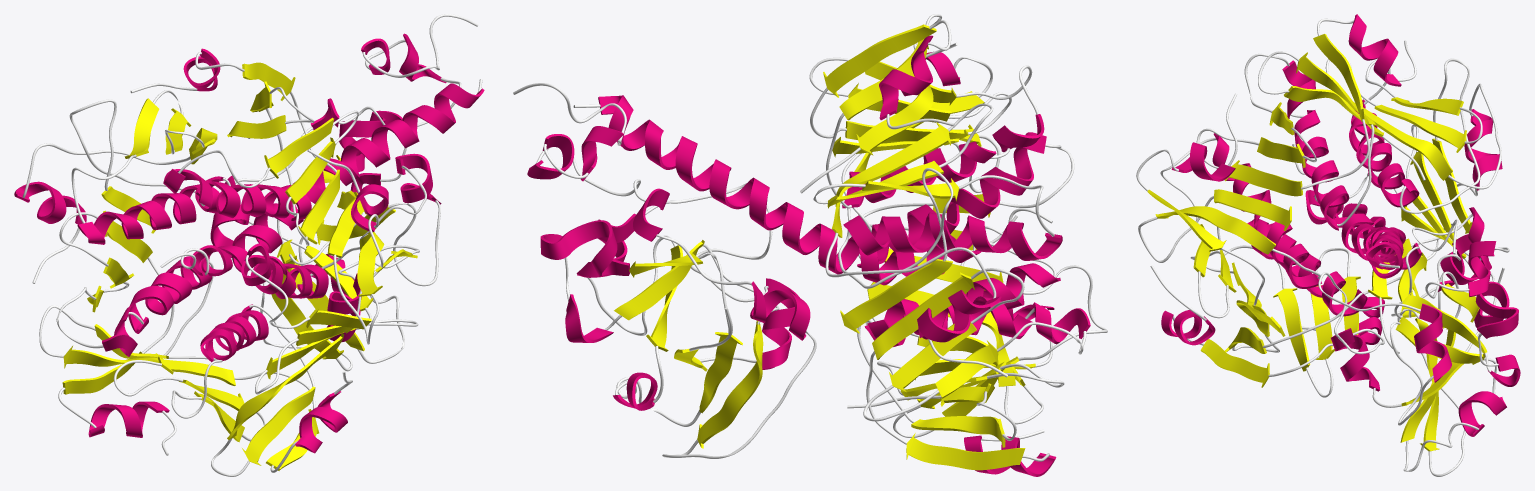
File: cholera toxin.fbx
3 views of the same model, side by side, from view 1: azimuth 30°, elevation 25°; view 2: azimuth 150°, elevation 25°; view 3: azimuth 270°, elevation 25° (orthographic). The views are drawn at different scales.
Parts seen in each view (by area): view 1: 1xtc_C_Helix1, 1xtc_E_Helix2, 1xtc_G_Helix2, 1xtc_F_Helix3, 1xtc_D_Helix3, 1xtc_H_Helix2, 1xtc_H_Strand2, 1xtc_D_Helix1, 1xtc_E_Helix1, 1xtc_H_Helix1, 1xtc_H_Strand1, 1xtc_F_Strand6 (+38 smaller); view 2: 1xtc_C_Helix1, 1xtc_E_Helix2, 1xtc_G_Helix2, 1xtc_A_Helix4, 1xtc_D_Strand1, 1xtc_D_Helix3, 1xtc_E_Strand1, 1xtc_F_Helix3, 1xtc_F_Strand3, 1xtc_E_Strand4, 1xtc_A_Strand3, 1xtc_D_Strand4 (+36 smaller); view 3: 1xtc_C_Helix1, 1xtc_E_Helix2, 1xtc_G_Helix2, 1xtc_F_Helix3, 1xtc_H_Helix2, 1xtc_A_Helix4, 1xtc_G_Strand2, 1xtc_F_Helix1, 1xtc_A_Helix2, 1xtc_A_Helix1, 1xtc_G_Strand3, 1xtc_E_Strand4 (+43 smaller).
Boxes of the visible parts, x1,y1,x2,y2 form: 1xtc_C_Helix1: [190, 83, 484, 276]; 1xtc_E_Helix2: [77, 176, 225, 244]; 1xtc_G_Helix2: [241, 243, 328, 298]; 1xtc_F_Helix3: [195, 180, 311, 220]; 1xtc_D_Helix3: [128, 256, 212, 333]; 1xtc_H_Helix2: [200, 304, 268, 361]; 1xtc_H_Strand2: [242, 386, 315, 465]; 1xtc_D_Helix1: [88, 401, 169, 437]; 1xtc_E_Helix1: [14, 181, 86, 224]; 1xtc_H_Helix1: [295, 391, 347, 453]; 1xtc_H_Strand1: [227, 333, 344, 439]; 1xtc_F_Strand6: [264, 117, 333, 178]; 1xtc_C_Helix1: [598, 95, 981, 285]; 1xtc_E_Helix2: [843, 212, 1062, 260]; 1xtc_G_Helix2: [857, 132, 1046, 267]; 1xtc_A_Helix4: [540, 220, 629, 276]; 1xtc_D_Strand1: [906, 433, 1025, 470]; 1xtc_D_Helix3: [867, 296, 1032, 338]; 1xtc_E_Strand1: [840, 259, 952, 333]; 1xtc_F_Helix3: [842, 141, 996, 208]; 1xtc_F_Strand3: [823, 24, 936, 97]; 1xtc_E_Strand4: [832, 122, 950, 237]; 1xtc_A_Strand3: [697, 320, 763, 448]; 1xtc_D_Strand4: [872, 272, 974, 359]; 1xtc_C_Helix1: [1313, 193, 1403, 278]; 1xtc_E_Helix2: [1349, 99, 1419, 207]; 1xtc_G_Helix2: [1212, 133, 1321, 288]; 1xtc_F_Helix3: [1294, 110, 1349, 230]; 1xtc_H_Helix2: [1247, 219, 1367, 316]; 1xtc_A_Helix4: [1474, 281, 1518, 338]; 1xtc_G_Strand2: [1155, 206, 1275, 254]; 1xtc_F_Helix1: [1348, 14, 1401, 86]; 1xtc_A_Helix2: [1414, 303, 1451, 382]; 1xtc_A_Helix1: [1331, 328, 1379, 391]; 1xtc_G_Strand3: [1214, 189, 1291, 231]; 1xtc_E_Strand4: [1348, 102, 1452, 180].
Size of the model in its own units: 78.86 by 64.1 by 59.53.
